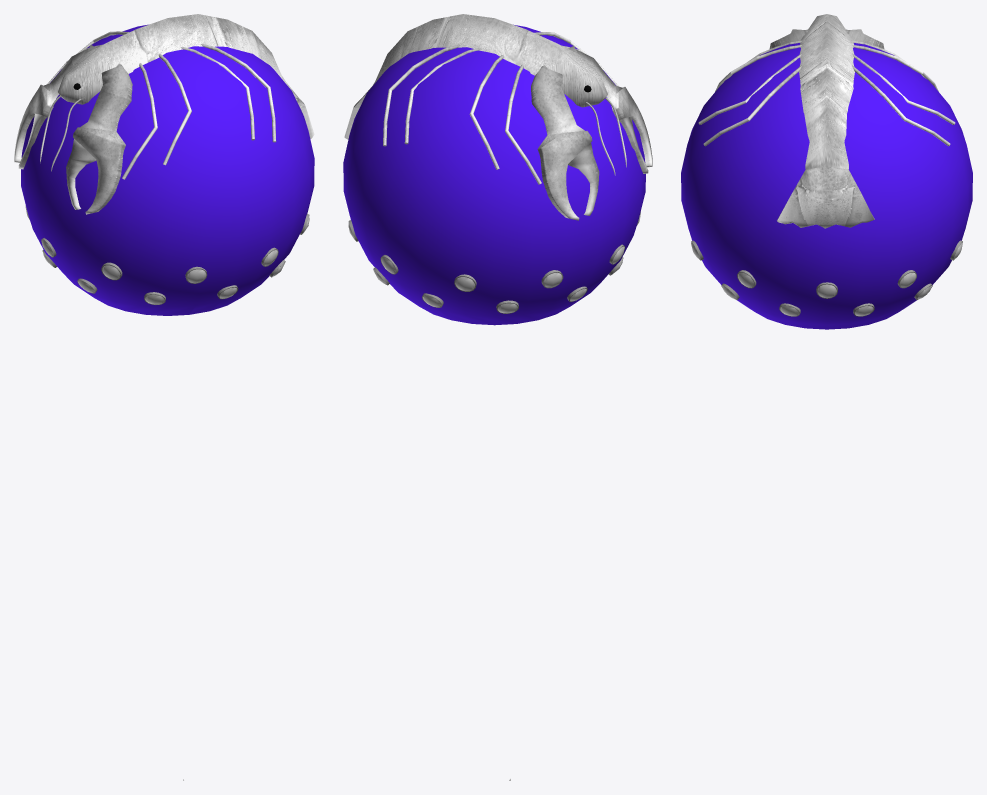
The model's file is addOn_LobsterHead.dae.
3 views of the same model, side by side, from view 1: azimuth 30°, elevation 25°; view 2: azimuth 150°, elevation 25°; view 3: azimuth 270°, elevation 25° (orthographic). The views are drawn at different scales.
Parts seen in each view (by area): view 1: main2, instance_0, instance_7, instance_8, D_1_ (×2); view 2: main2, instance_0, instance_8, instance_7, D_1_ (×3); view 3: main2, instance_0.
Boxes of the visible parts, x1=… form: main2: x1=21, y1=24, x2=314, y2=315; instance_0: x1=58, y1=14, x2=314, y2=138; instance_7: x1=66, y1=63, x2=132, y2=214; instance_8: x1=14, y1=45, x2=96, y2=169; D_1_ (×2): x1=122, y1=43, x2=276, y2=179; main2: x1=343, y1=24, x2=645, y2=325; instance_0: x1=344, y1=14, x2=607, y2=139; instance_8: x1=531, y1=65, x2=599, y2=220; instance_7: x1=568, y1=45, x2=652, y2=173; D_1_ (×3): x1=383, y1=44, x2=541, y2=184; main2: x1=681, y1=43, x2=972, y2=329; instance_0: x1=777, y1=14, x2=874, y2=228.
Size of the model in its own units: 80.73 by 80.44 by 227.
9 materials, 4 textured.
